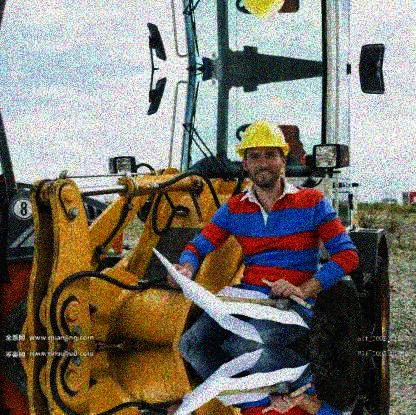helmet: (236, 121, 290, 190)
